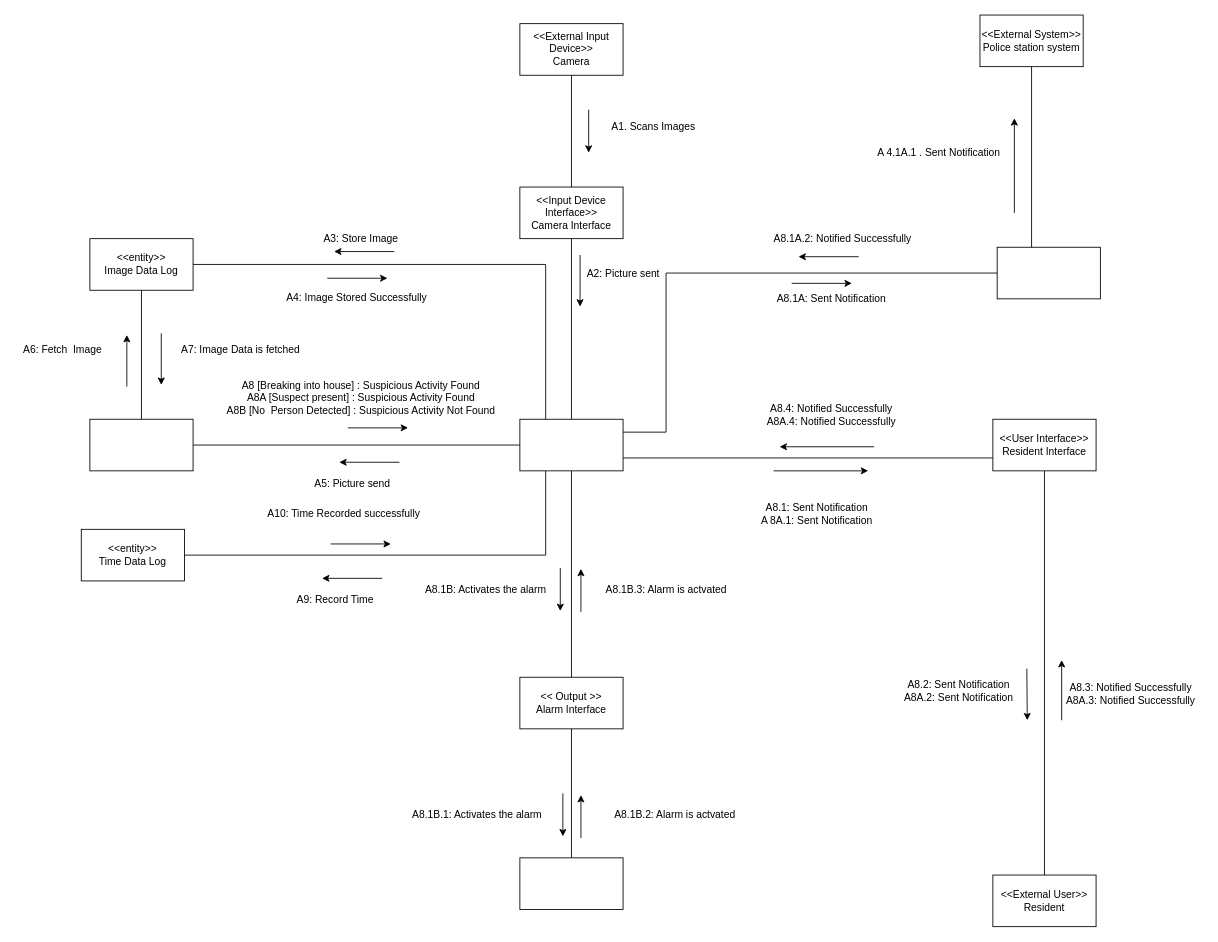
The diagram is 1218 pixels wide and 942 high, and some of its shapes have lost their labels. The centre of each missing label's shape, as x and y in pixels:
"<< External Output Device>> Alarm" belongs at [571,883].
"<<Algorithm>> Picture Analyzer" belongs at [141,444].
"<<Proxy>> Police Station" belongs at [1048,272].
"<<State Dependent Control>> Smart Home System" belongs at [571,444].
